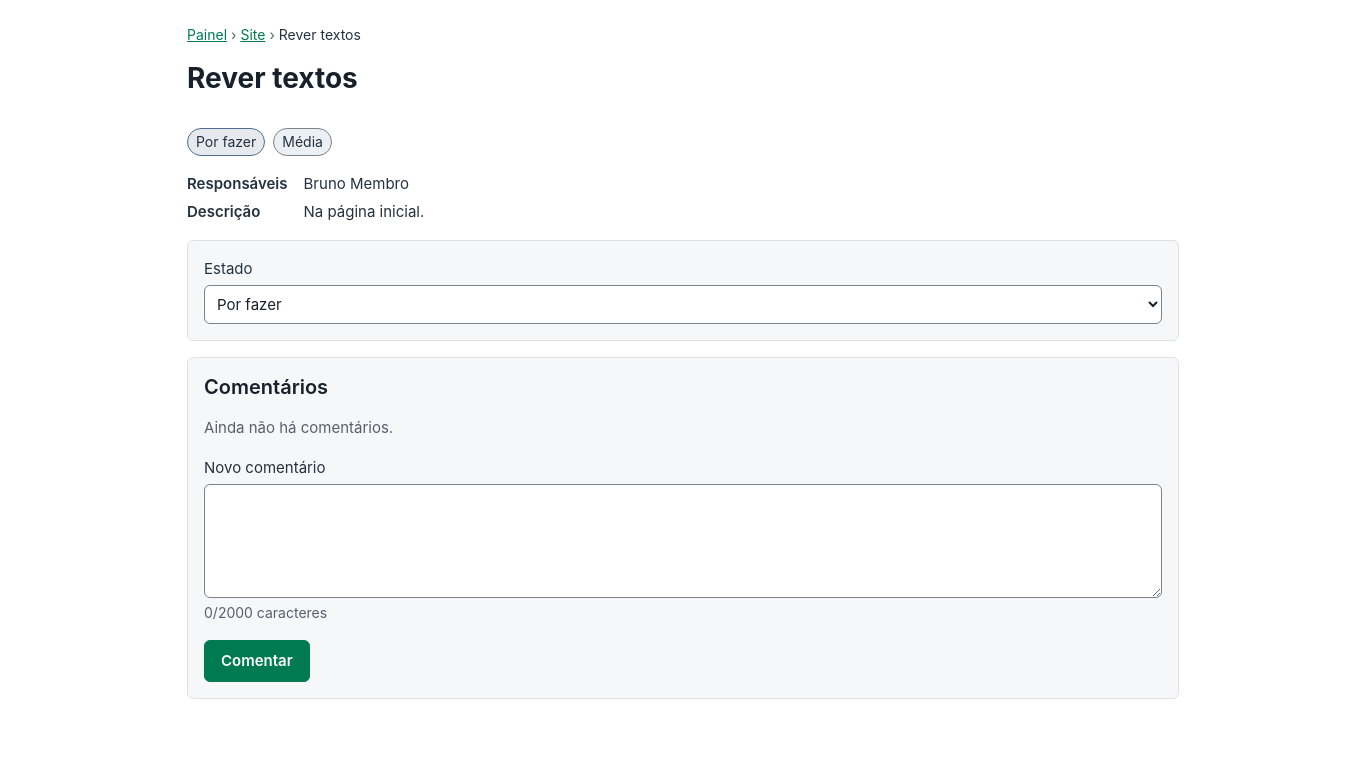
Scenario: TaskDetailView (US19, US06, US07, US22) › qualquer membro muda o estado (US07)
The width and height of the screenshot is (1366, 768).
Select "Em curso" in the dropdown labelled "Estado" at (683,304), box x1=204 y1=285 x2=1162 y2=324
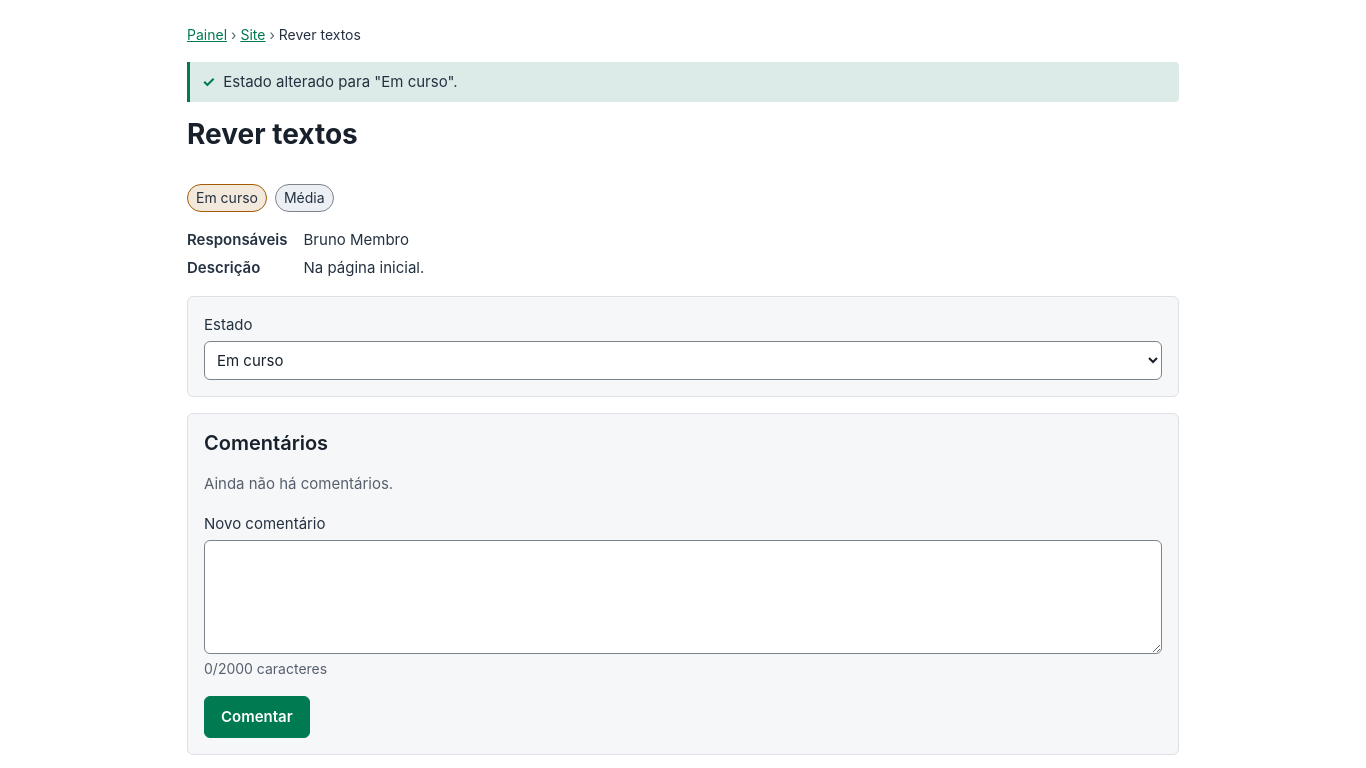
Expected: the text with class "badge-status-in_progress" reads "Em curso", x1=196 y1=189 x2=258 y2=206
Expected: the message "Estado alterado para \"Em curso\"." reads "Estado alterado para \"Em curso\".", x1=223 y1=72 x2=458 y2=91
